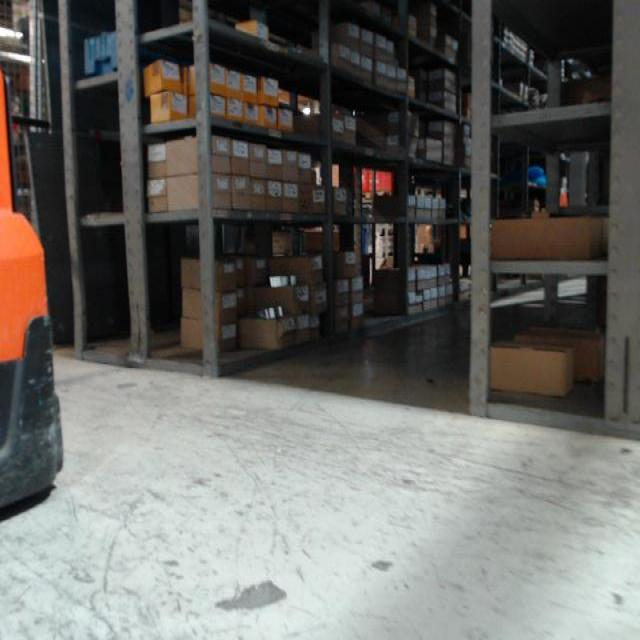pallet_truck: (4, 54, 69, 534)
small_load_carrier: (81, 33, 116, 79)
